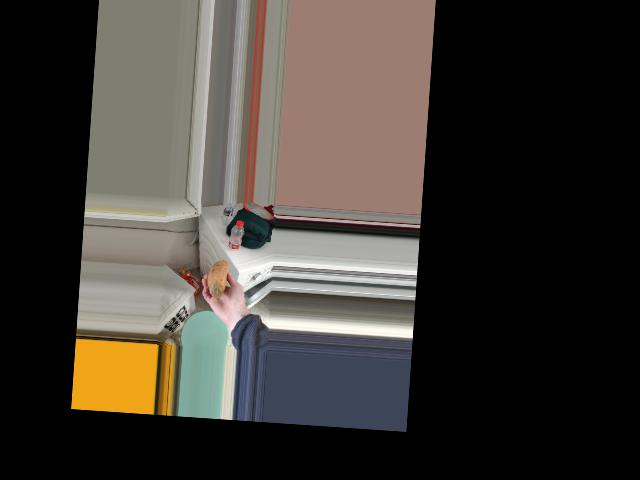sweet_potato: (208, 256, 231, 304)
